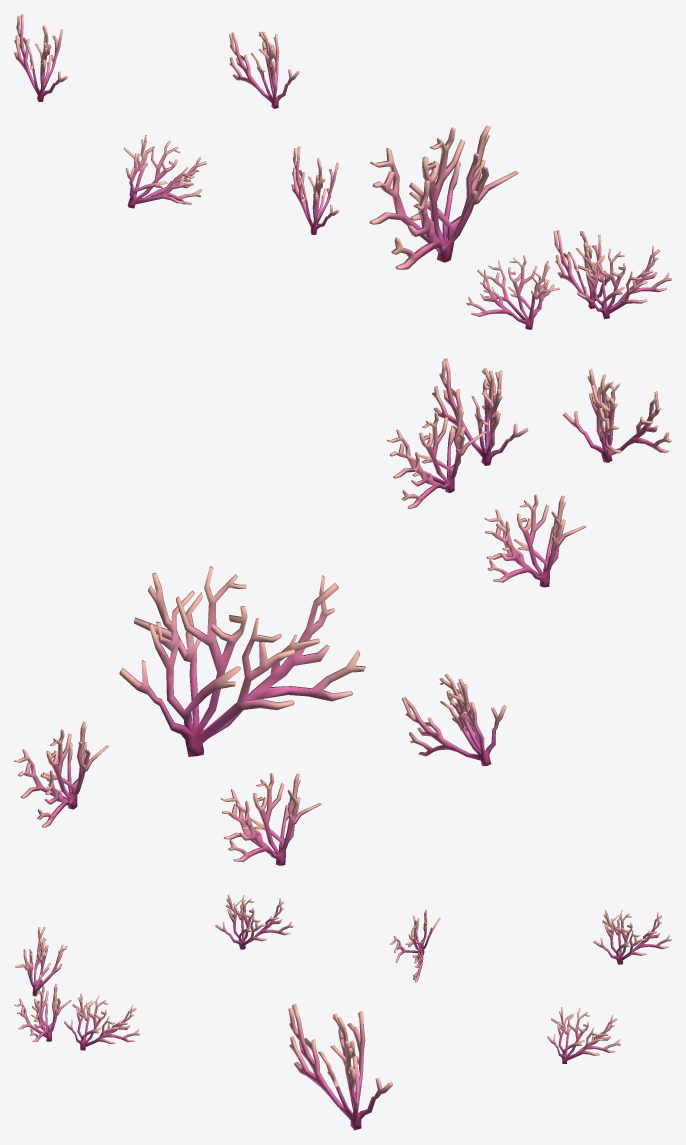
File: stageObject_5.fbx
The picture shows the model from 3 angles, top to bottom: view 1: azimuth 30°, elevation 25°; view 2: azimuth 150°, elevation 25°; view 3: azimuth 270°, elevation 25°; orthographic projection. The views are drawn at different scales.
Parts seen in each view (by area): view 1: sango2_1; view 2: sango2_1; view 3: sango2_1.
Boxes of the visible parts, left/top/right/bottom form: sango2_1: left=14, top=14, right=671, bottom=329; sango2_1: left=14, top=358, right=671, bottom=865; sango2_1: left=14, top=894, right=671, bottom=1130.
Bounding box in the file's own units: 323 × 181 × 684.
1 material, 1 textured.
